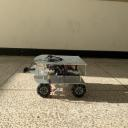cart: (30, 54, 88, 98)
